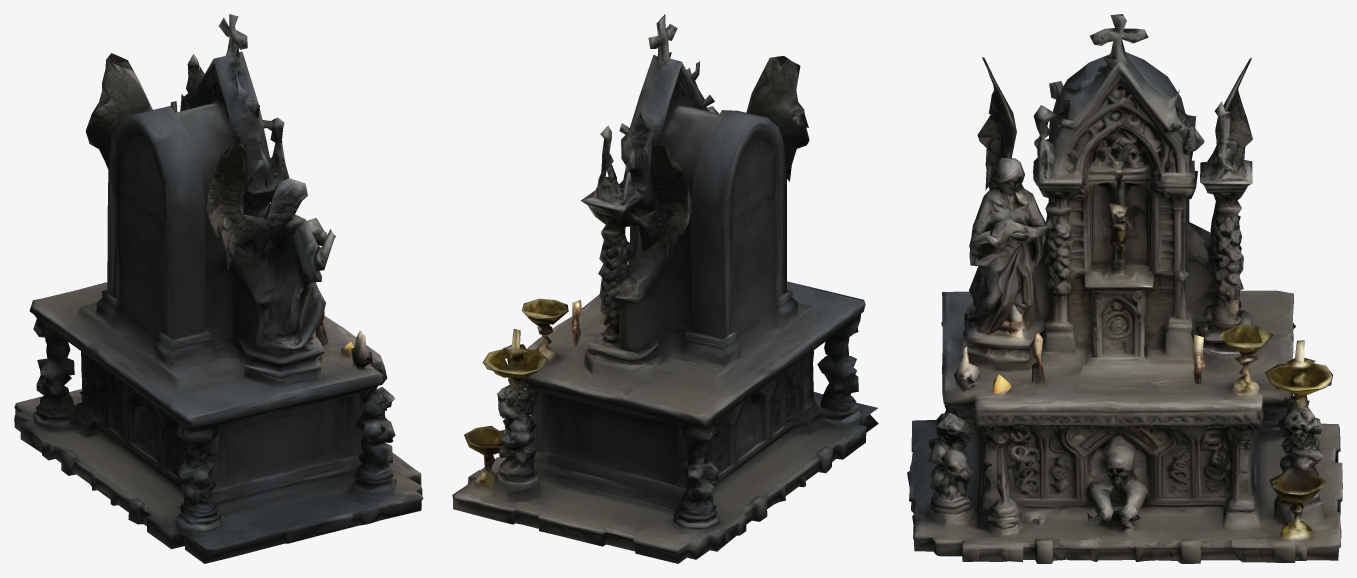
The model's file is shrine.glb.
The picture shows the model from 3 angles, left to right: view 1: azimuth 30°, elevation 25°; view 2: azimuth 150°, elevation 25°; view 3: azimuth 270°, elevation 25°; orthographic projection. The views are drawn at different scales.
Parts seen in each view (by area): view 1: node_3379e038-5e96-46e7-94ca-fe98787e8e31; view 2: node_3379e038-5e96-46e7-94ca-fe98787e8e31; view 3: node_3379e038-5e96-46e7-94ca-fe98787e8e31.
Boxes of the visible parts, x1,y1,x2,y2 form: node_3379e038-5e96-46e7-94ca-fe98787e8e31: [14, 14, 423, 563]; node_3379e038-5e96-46e7-94ca-fe98787e8e31: [452, 14, 878, 563]; node_3379e038-5e96-46e7-94ca-fe98787e8e31: [907, 14, 1342, 563].
Bounding box in the file's own units: 0.5866 × 1 × 0.81.
Materials: 1 (1 with a texture image).
